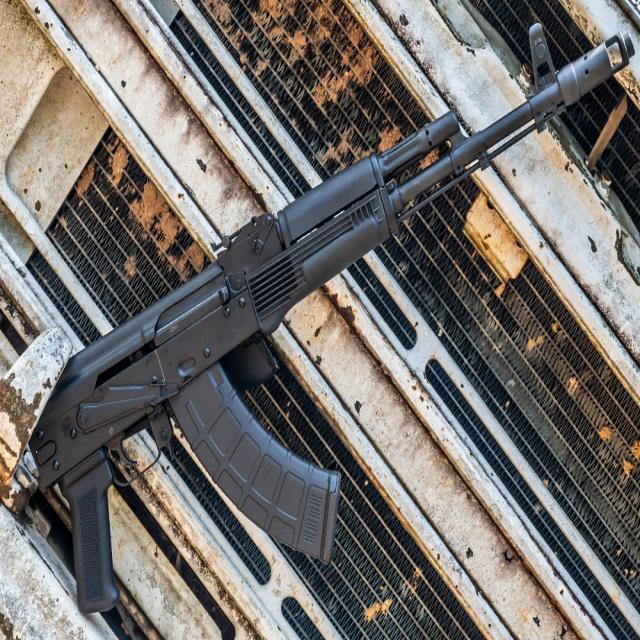weapon: (27, 21, 635, 616)
